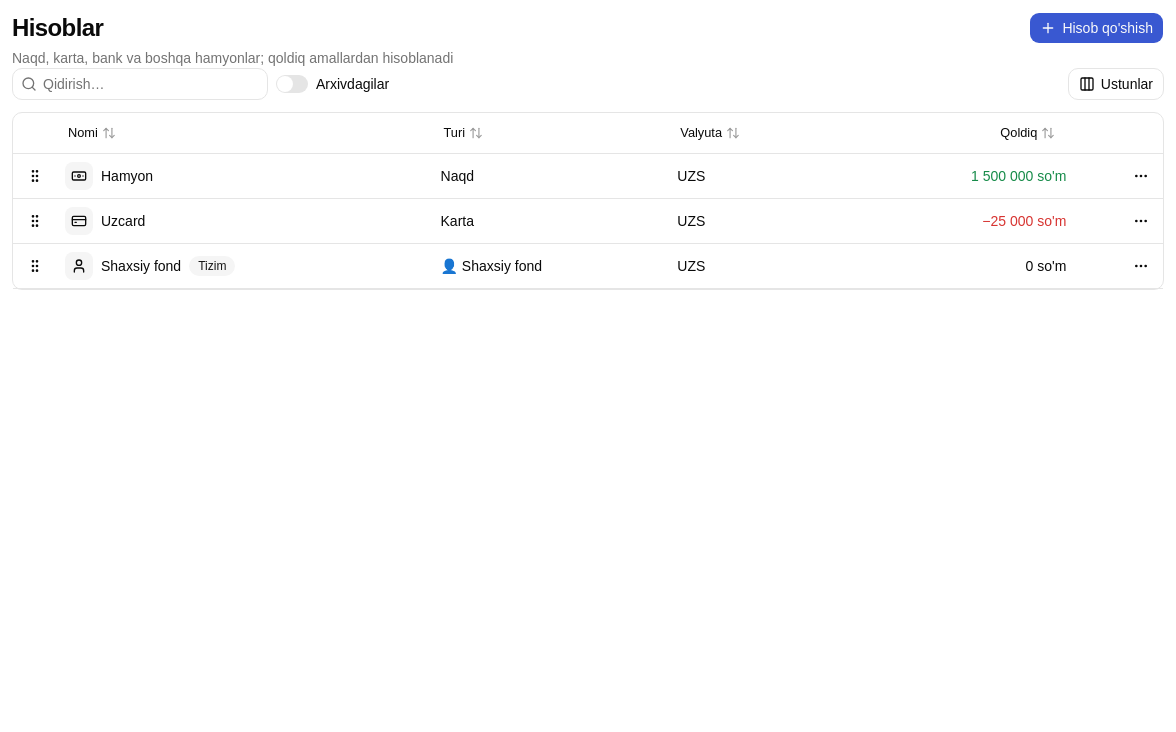
AccountsPage (E22-T02) › arxivlash — qator darhol yo‘qoladi, server xatosida qaytadi
expect the text "Uzcard" is shown: met, box left=101, top=210, right=145, bottom=230
Click the button named "Uzcard: amallar".
click(1141, 220)  # box left=1127, top=206, right=1155, bottom=234
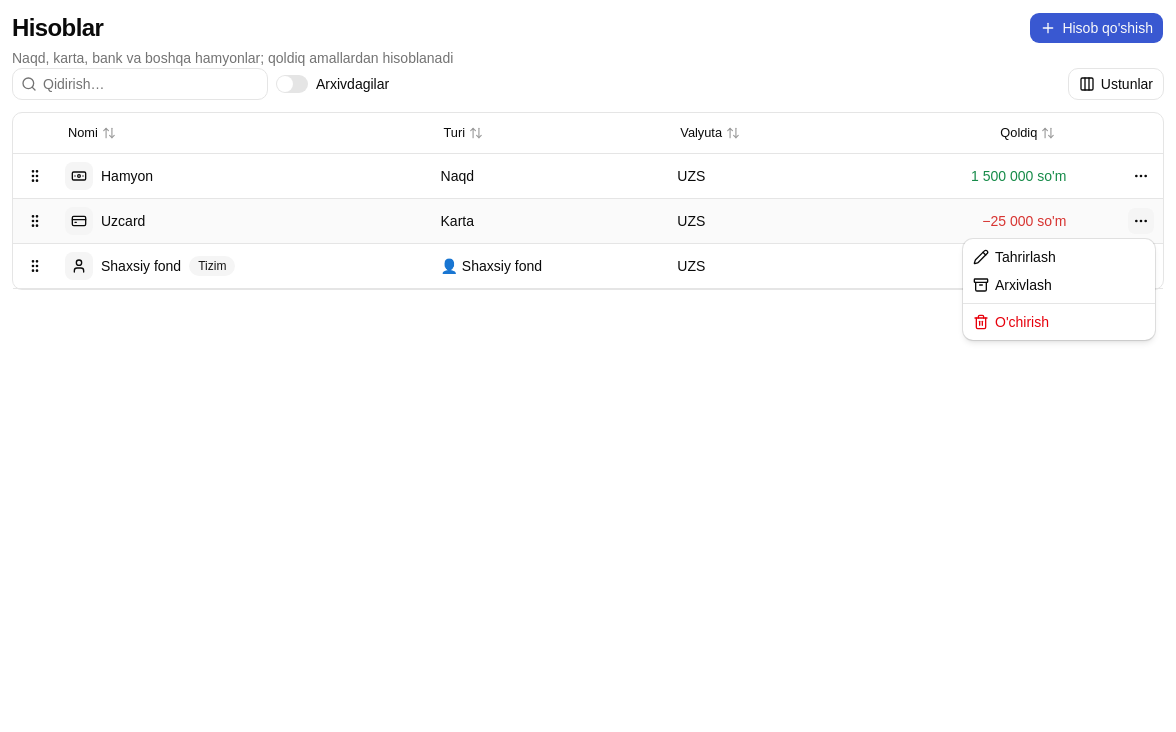
Click the menu item "Arxivlash".
click(1012, 285)  # box left=973, top=277, right=1052, bottom=293
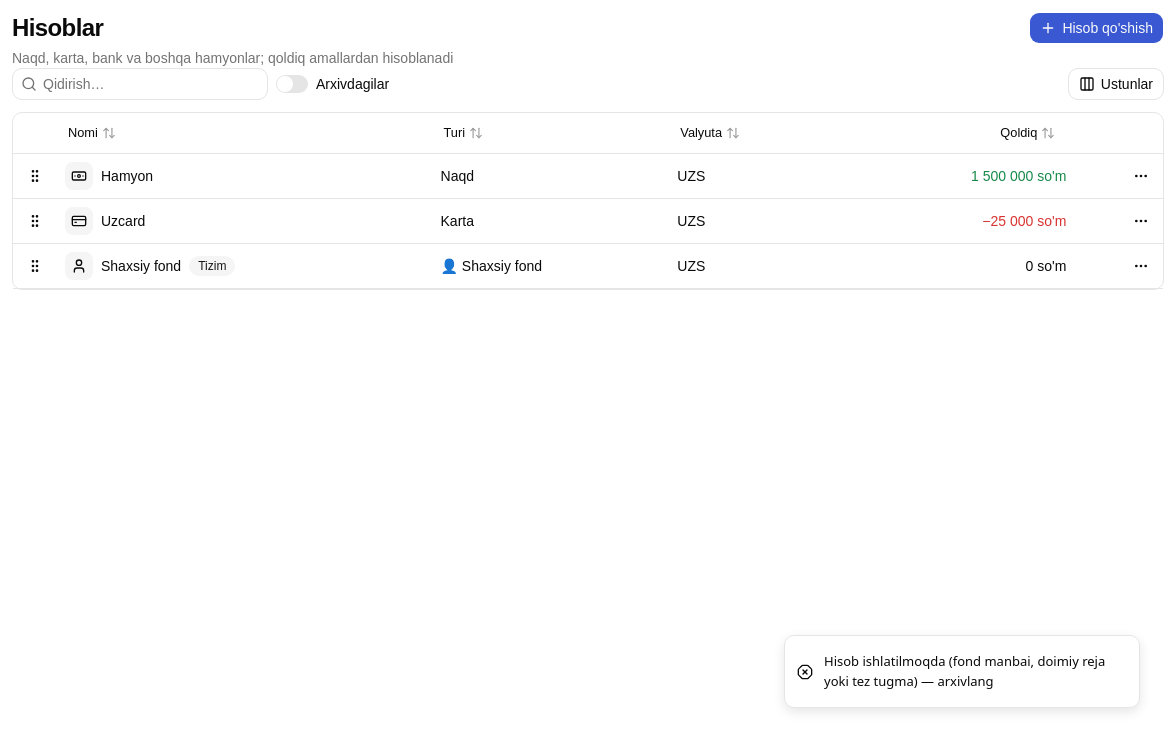
expect the text "Uzcard" is shown: met, box left=101, top=210, right=145, bottom=230
expect the text "Hisob ishlatilmoqda (fond manbai, doimiy reja yoki tez tugma) — arxivlang" is shown: met, box left=824, top=652, right=1123, bottom=691
